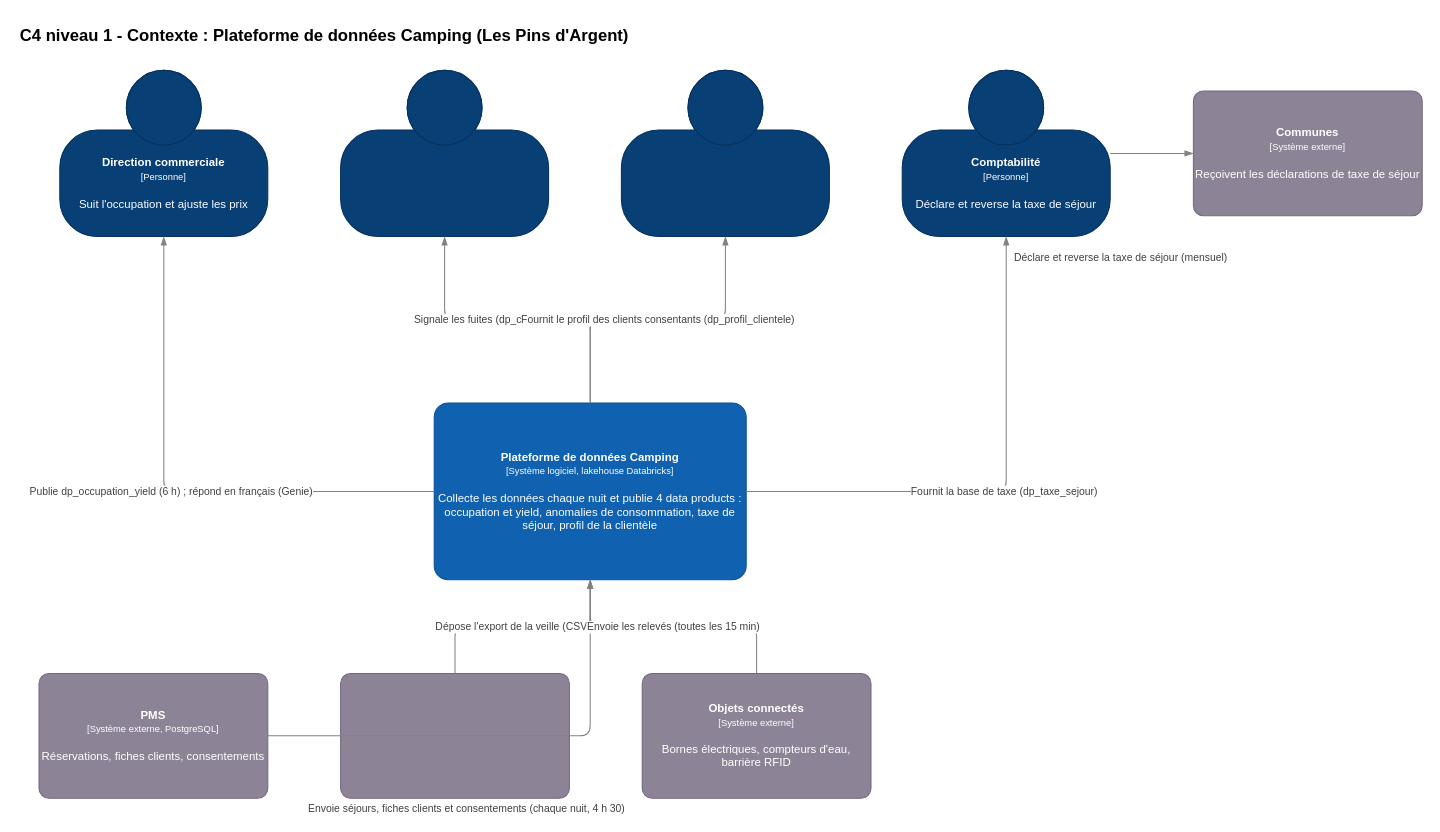
The diagram is 1440 pixels wide and 832 high, and some of its shapes have lost their labels. Each missing label, with the centre of its shape:
"Agences en ligne (OTA) [Système externe] Booking, Campings.com" belongs at [454,735].
"Marketing [Personne] Étudie le profil des clients consentants" belongs at [724,153].
"Services techniques [Personne] Traitent les fuites et anomalies" belongs at [444,153].
